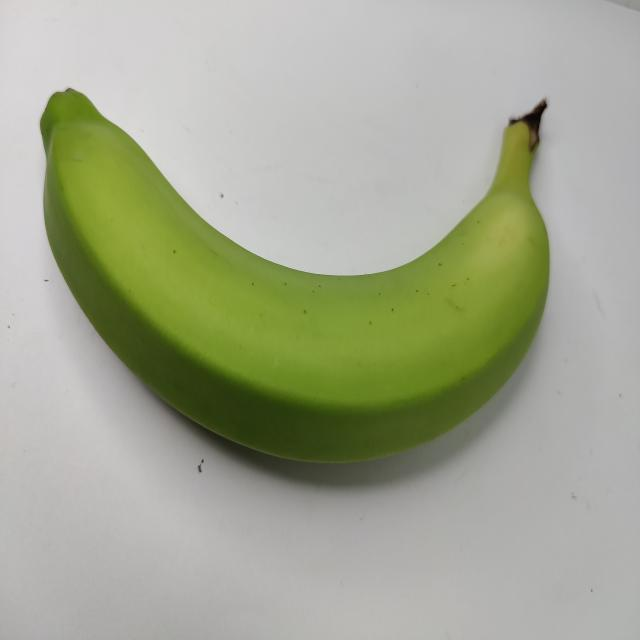raw: (39, 58, 558, 478)
